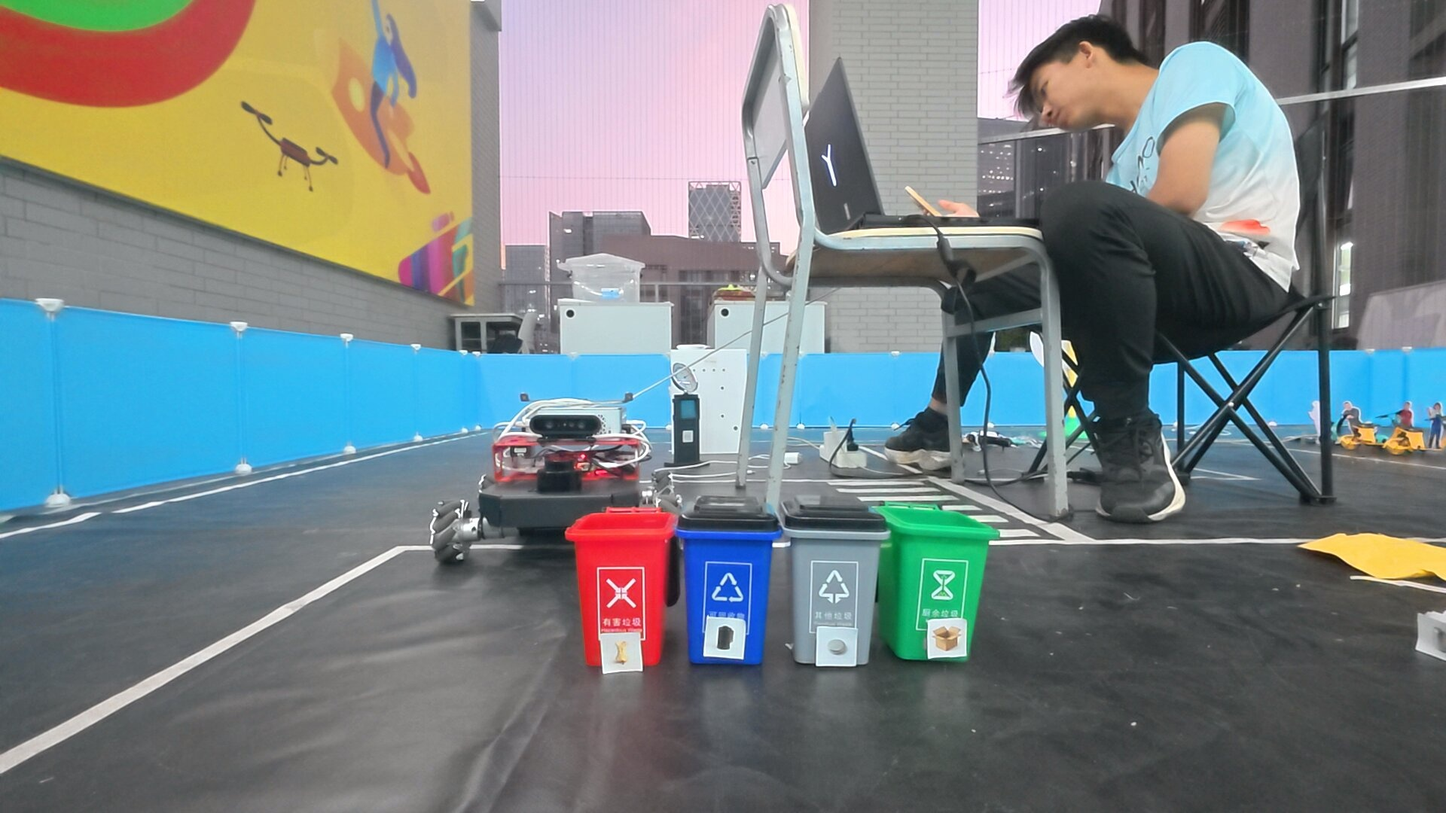food_trash: (602, 635, 639, 669)
hazardous_trash: (817, 629, 855, 666), (707, 619, 741, 658)
recyclable_trash: (927, 619, 966, 658)
